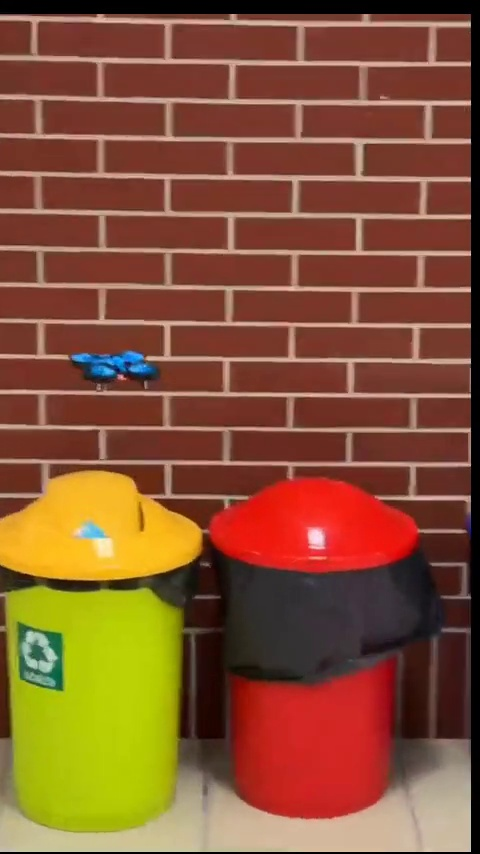drone: (68, 347, 162, 389)
